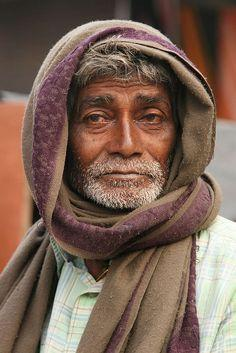Human: (15, 20, 234, 353)
